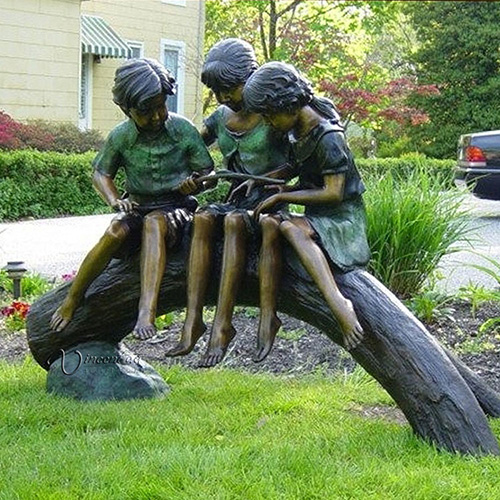person-like: (47, 54, 219, 344), (162, 35, 291, 372), (239, 58, 374, 365)
